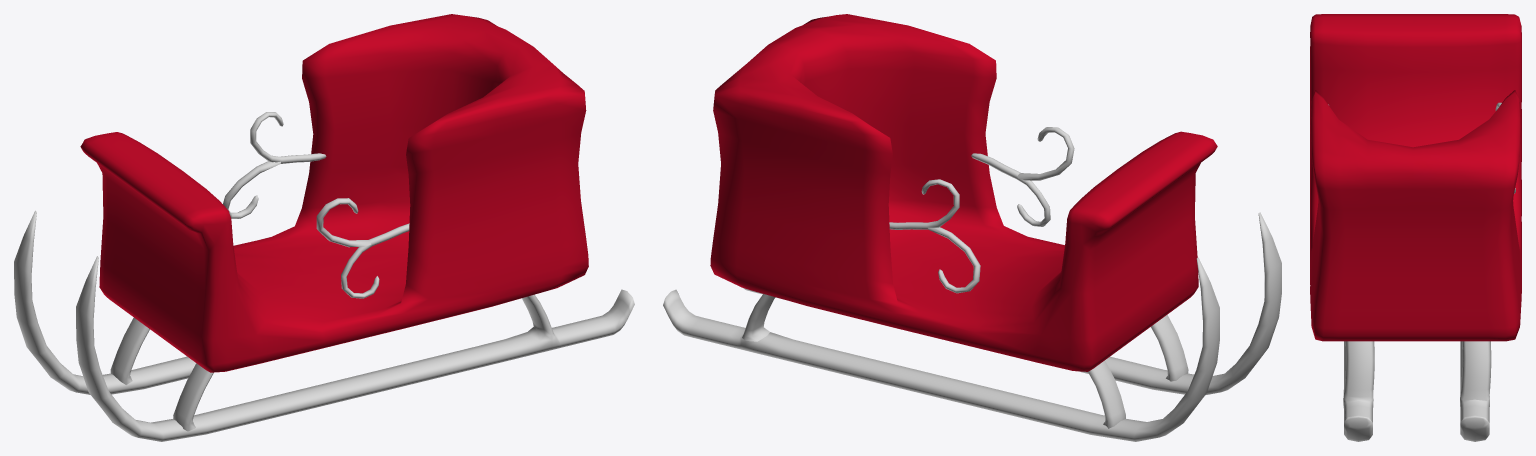
File: carrusel.fbx
The picture shows the model from 3 angles, left to right: view 1: azimuth 30°, elevation 25°; view 2: azimuth 150°, elevation 25°; view 3: azimuth 270°, elevation 25°; orthographic projection. The views are drawn at different scales.
Visible parts, largest first — view 1: CarruselMalo; view 2: CarruselMalo; view 3: CarruselMalo.
Boxes of the visible parts, bbox=[...] form: CarruselMalo: bbox=[14, 14, 634, 441]; CarruselMalo: bbox=[663, 14, 1281, 441]; CarruselMalo: bbox=[1310, 14, 1521, 441].
Size of the model in its own units: 559 by 273 by 199.
